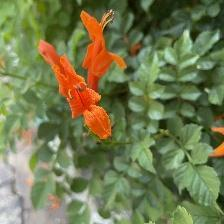honeysuckle: (38, 39, 125, 143)
